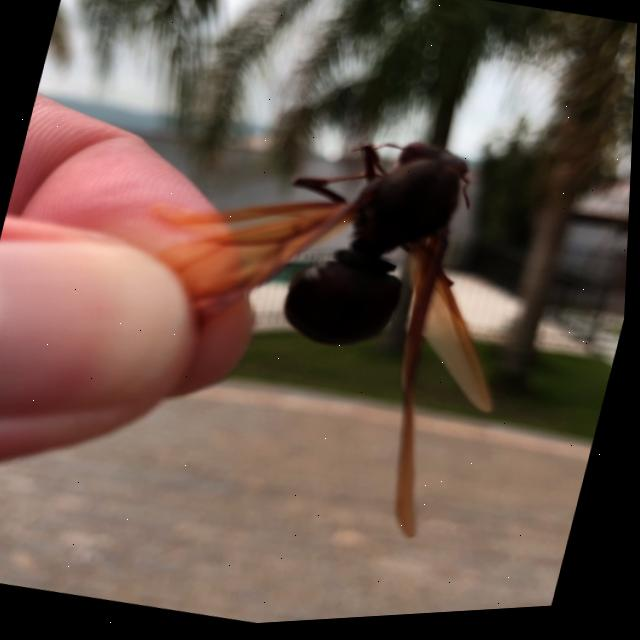Dead-Female-Alate: (70, 86, 559, 570)
